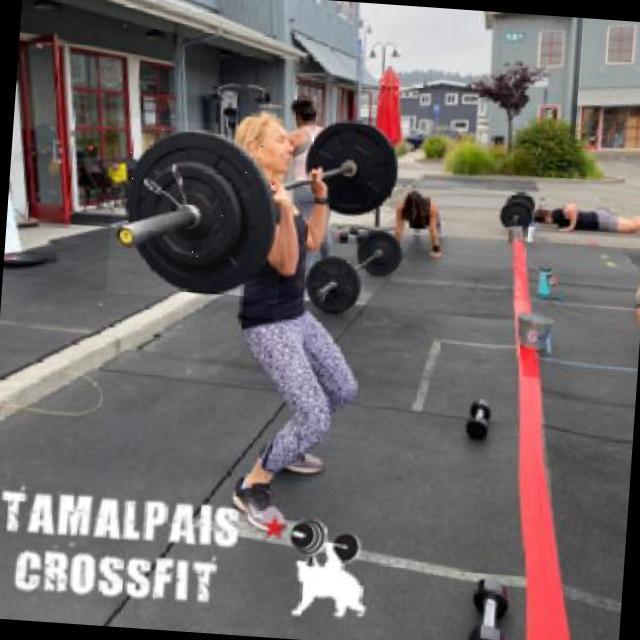barbell: (107, 118, 291, 305)
